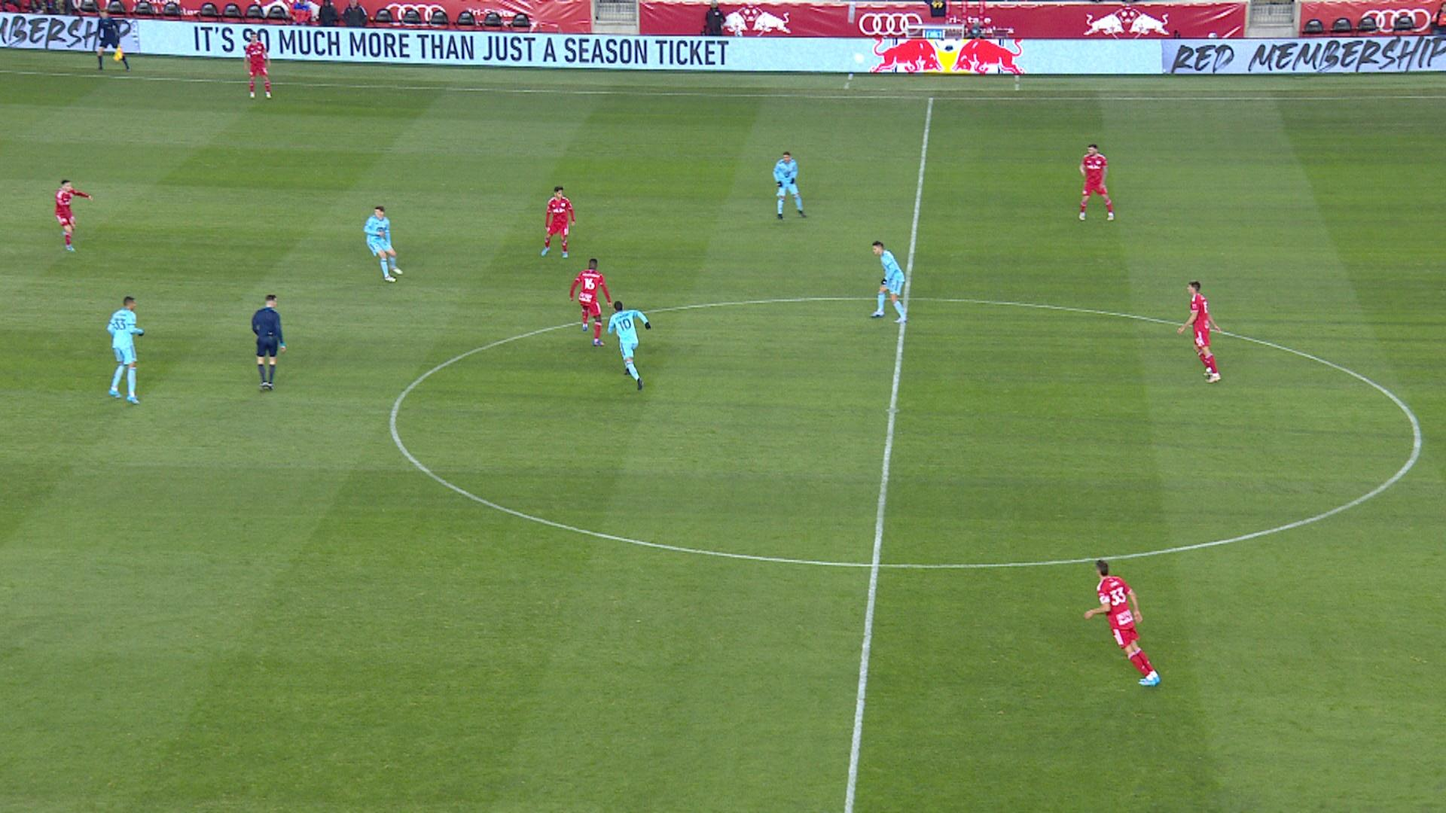Player: (1084, 562, 1159, 685), (1178, 281, 1221, 382), (108, 298, 144, 404), (608, 301, 651, 389), (570, 259, 613, 345), (55, 180, 94, 251), (872, 242, 906, 323), (365, 206, 401, 281), (1079, 144, 1114, 220), (541, 187, 575, 258), (774, 153, 805, 219), (244, 34, 271, 99)
referee: (252, 295, 285, 389), (97, 10, 130, 70)
